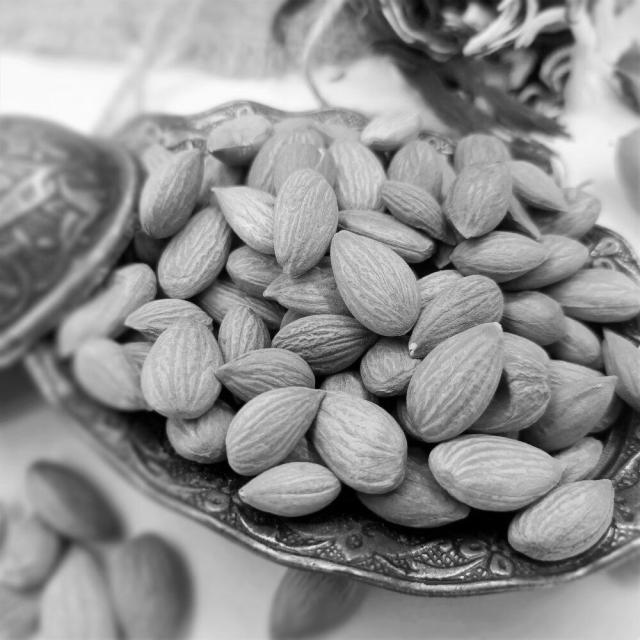Kayisi Cekirdegi: (409, 322, 502, 441), (330, 228, 424, 342), (431, 437, 564, 511), (312, 394, 405, 494), (510, 477, 613, 558), (229, 387, 325, 473), (144, 322, 220, 419), (272, 163, 336, 277), (240, 464, 349, 521)
